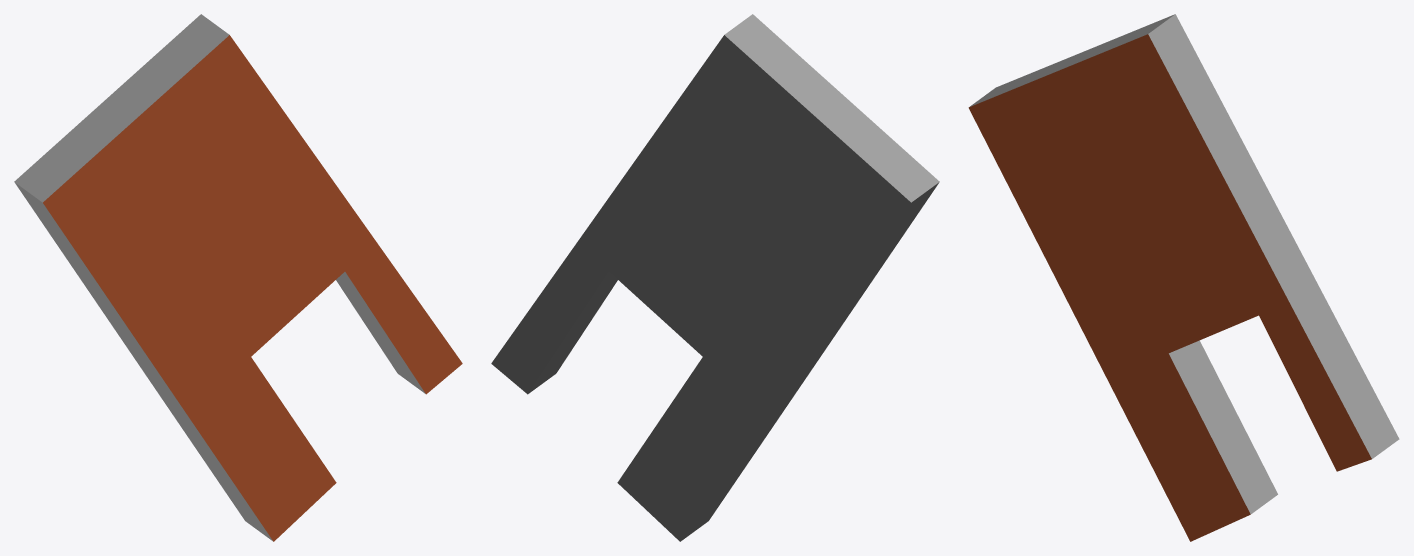
Rendered from construction_5403_assumed_A_Casa_h6m.obj.
The picture shows the model from 3 angles, left to right: view 1: azimuth 30°, elevation 25°; view 2: azimuth 150°, elevation 25°; view 3: azimuth 330°, elevation 25°; orthographic projection. The views are drawn at different scales.
Visible parts, largest first — view 1: construction_5403_assumed_A_Casa; view 2: construction_5403_assumed_A_Casa; view 3: construction_5403_assumed_A_Casa.
Part boxes in pixels (<box>): construction_5403_assumed_A_Casa: <box>14,14,462,541</box>; construction_5403_assumed_A_Casa: <box>491,14,939,541</box>; construction_5403_assumed_A_Casa: <box>968,14,1399,541</box>.
Bounding box in the file's own units: 50.91 × 59.96 × 6.
